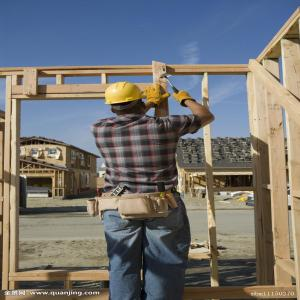yellow: (105, 82, 150, 118)
